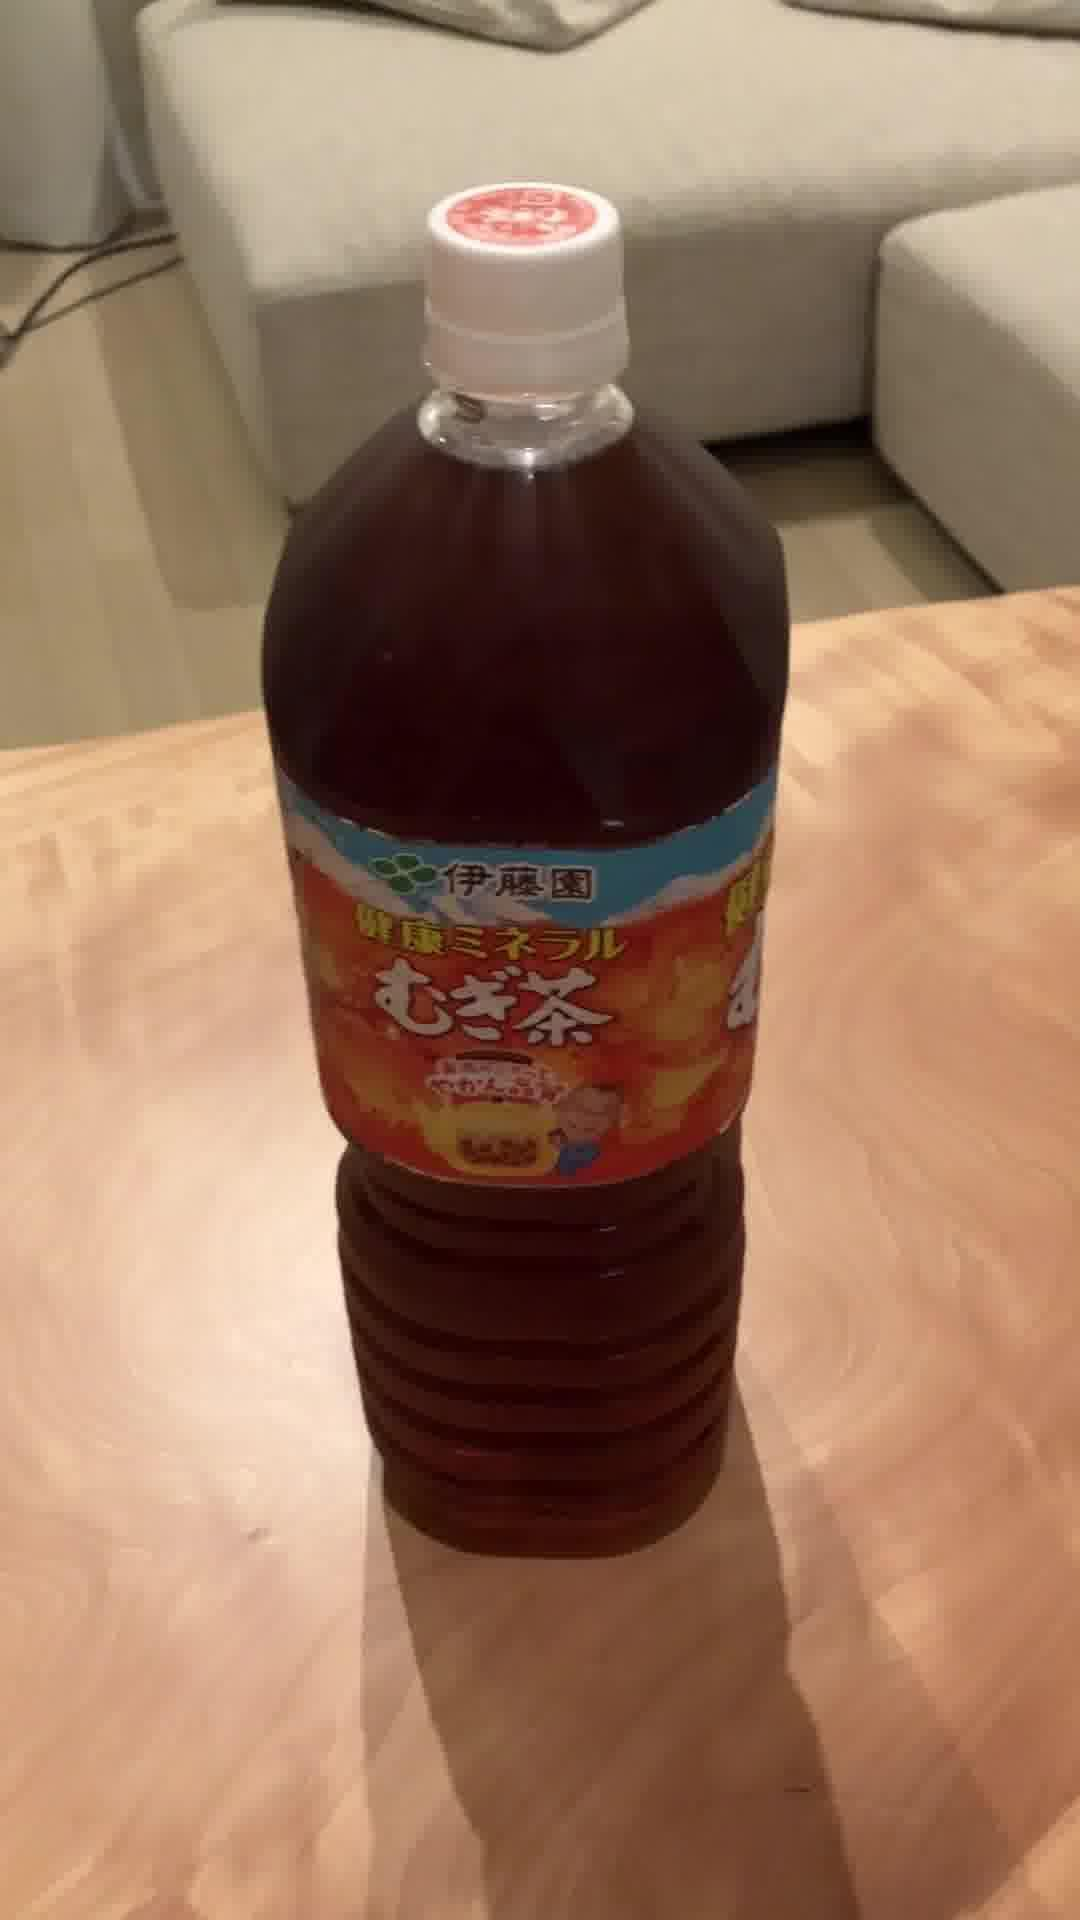BIODEGRADABLE: (254, 170, 792, 1559)
